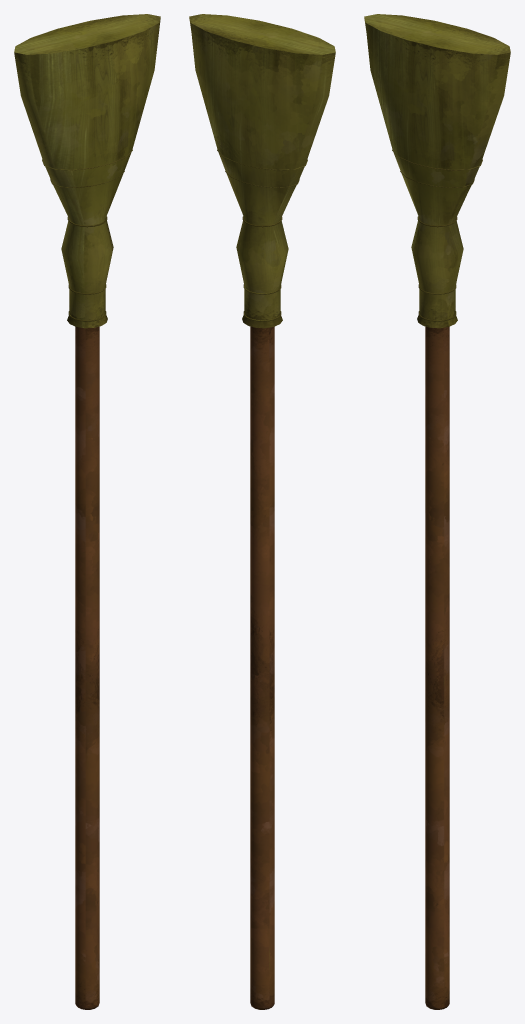
The model's file is Vassoura.fbx.
3 renders of one model, left to right at view 1: azimuth 30°, elevation 25°; view 2: azimuth 150°, elevation 25°; view 3: azimuth 330°, elevation 25°, orthographic.
Parts seen in each view (by area): view 1: Vassoura; view 2: Vassoura; view 3: Vassoura.
Part boxes in pixels (x1,y1,x2,y2): Vassoura: (14,14,160,1009); Vassoura: (189,14,335,1009); Vassoura: (364,14,510,1009).
Bounding box in the file's own units: 16 × 101 × 6.01.
Materials: 1 (1 with a texture image).
